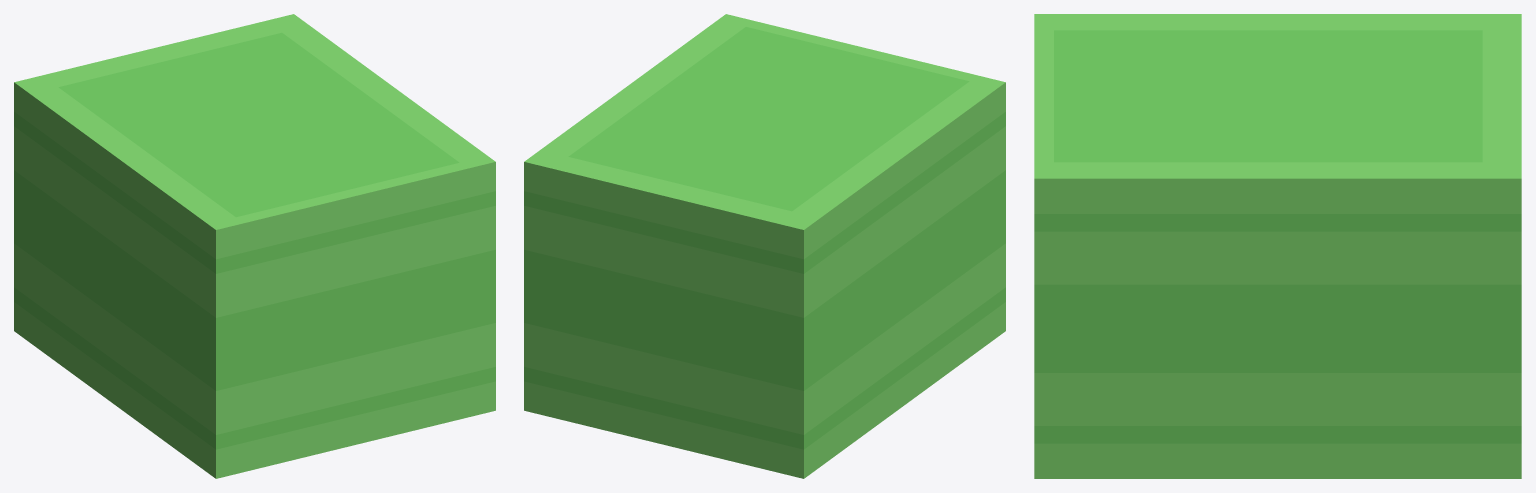
Rendered from tree_oak_01-0.obj.
3 views of the same model, side by side, from view 1: azimuth 30°, elevation 25°; view 2: azimuth 150°, elevation 25°; view 3: azimuth 270°, elevation 25° (orthographic). The views are drawn at different scales.
Size of the model in its own units: 2 by 1.7 by 2.5.
1 material, 1 textured.
